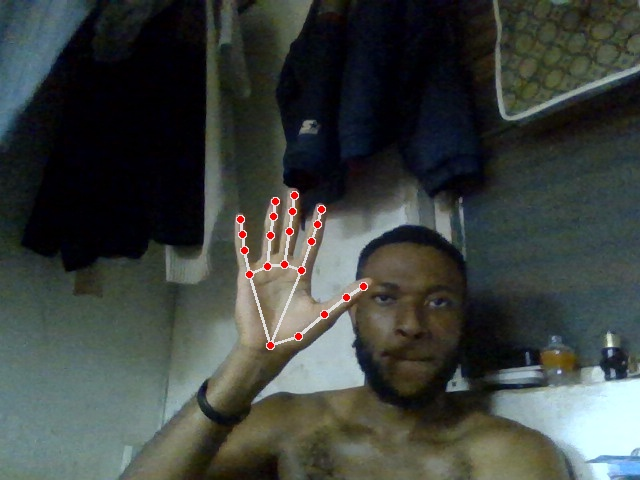no: (234, 187, 374, 364)
